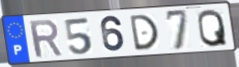5: (63, 16, 94, 56)
6: (99, 14, 126, 54)
7: (164, 9, 190, 52)
D: (128, 13, 160, 53)
Q: (196, 8, 229, 49)
R: (27, 18, 65, 60)
